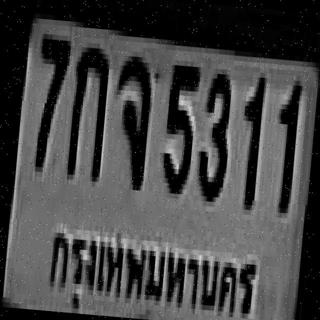A01: (65, 42, 109, 177)
A08: (108, 50, 152, 186)
N01: (270, 74, 301, 208), (235, 71, 265, 205)
N03: (193, 68, 233, 198)
N05: (160, 59, 199, 190)
N07: (29, 29, 70, 168)
P04: (40, 213, 264, 320)
